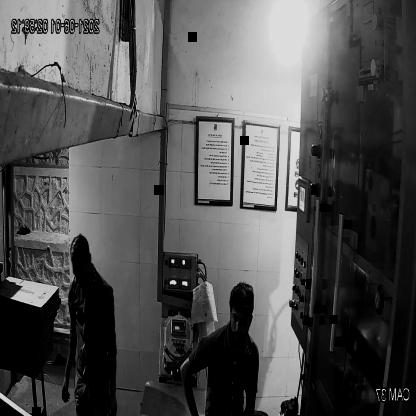no_goggles: (228, 312, 254, 330)
